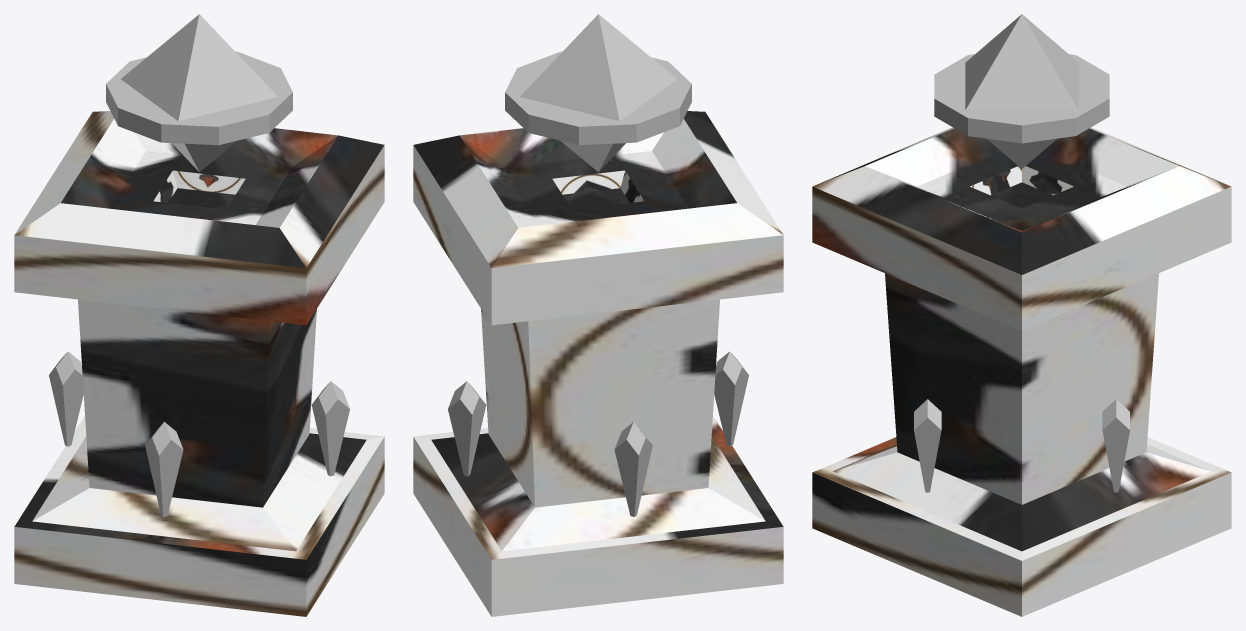
Rendered from EarthTower.FBX.
3 renders of one model, left to right at view 1: azimuth 30°, elevation 25°; view 2: azimuth 150°, elevation 25°; view 3: azimuth 270°, elevation 25°, orthographic. The views are drawn at different scales.
Visible parts, largest first — view 1: Cylinder002, Object, Object001; view 2: Cylinder002, Object, Object001; view 3: Cylinder002, Object, Object001.
Part boxes in pixels (bbox=[...]): Cylinder002: bbox=[14, 111, 384, 616]; Object: bbox=[106, 14, 292, 171]; Object001: bbox=[49, 351, 349, 516]; Cylinder002: bbox=[413, 111, 783, 616]; Object: bbox=[505, 14, 691, 171]; Object001: bbox=[448, 351, 748, 516]; Cylinder002: bbox=[812, 127, 1231, 616]; Object: bbox=[934, 14, 1109, 168]; Object001: bbox=[914, 399, 1129, 492].
Size of the model in its own units: 39.37 by 53.32 by 39.37.
